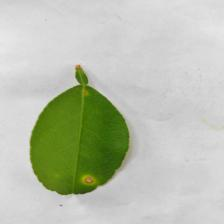greening: (24, 167, 136, 197)
